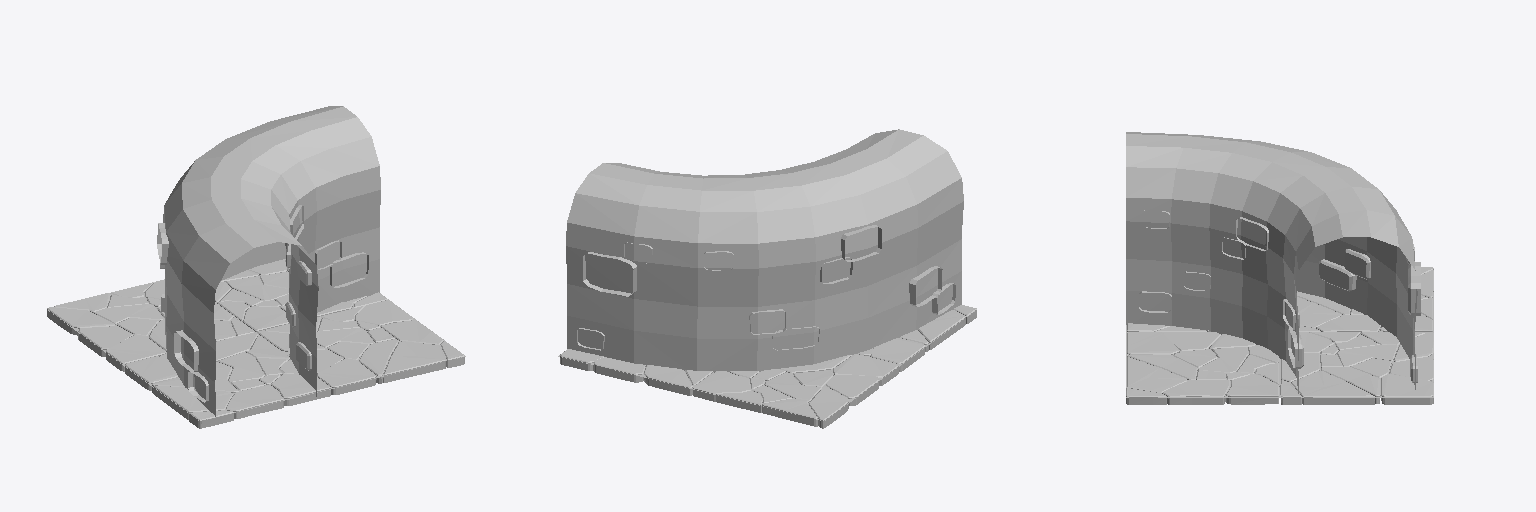
File: Hallway_Curve_Long.obj
3 renders of one model, left to right at view 1: azimuth 30°, elevation 25°; view 2: azimuth 150°, elevation 25°; view 3: azimuth 270°, elevation 25°, orthographic.
Visible parts, largest first — view 1: Hallway_Curve_Long; view 2: Hallway_Curve_Long; view 3: Hallway_Curve_Long.
Part boxes in pixels (x1,y1,x2,y2): Hallway_Curve_Long: (47,106,465,428); Hallway_Curve_Long: (558,129,976,428); Hallway_Curve_Long: (1126,132,1433,404).
Size of the model in its own units: 4.01 by 2.42 by 4.